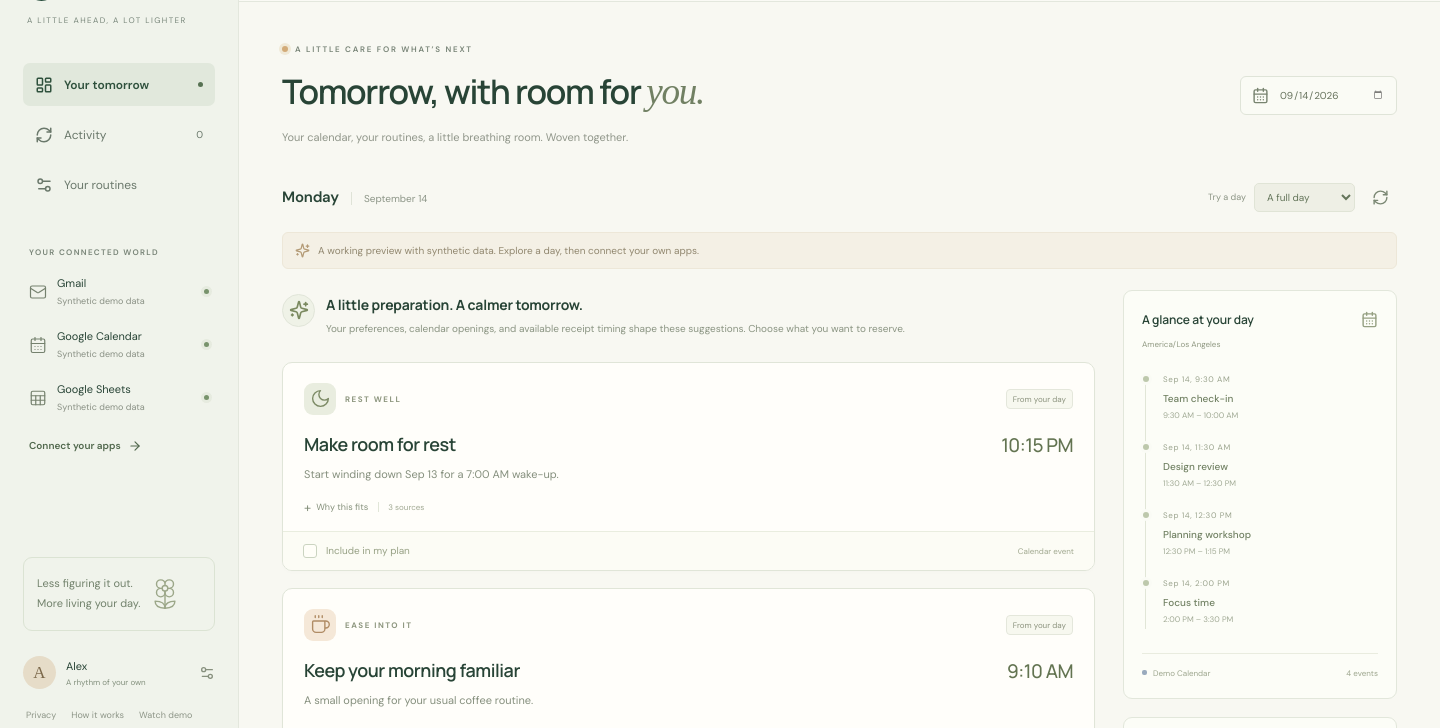
keeps generation and review read-only until exact action confirmation
Step 1. Click the checkbox → (310, 551), box 303,544 -> 317,558
(page scrolled)
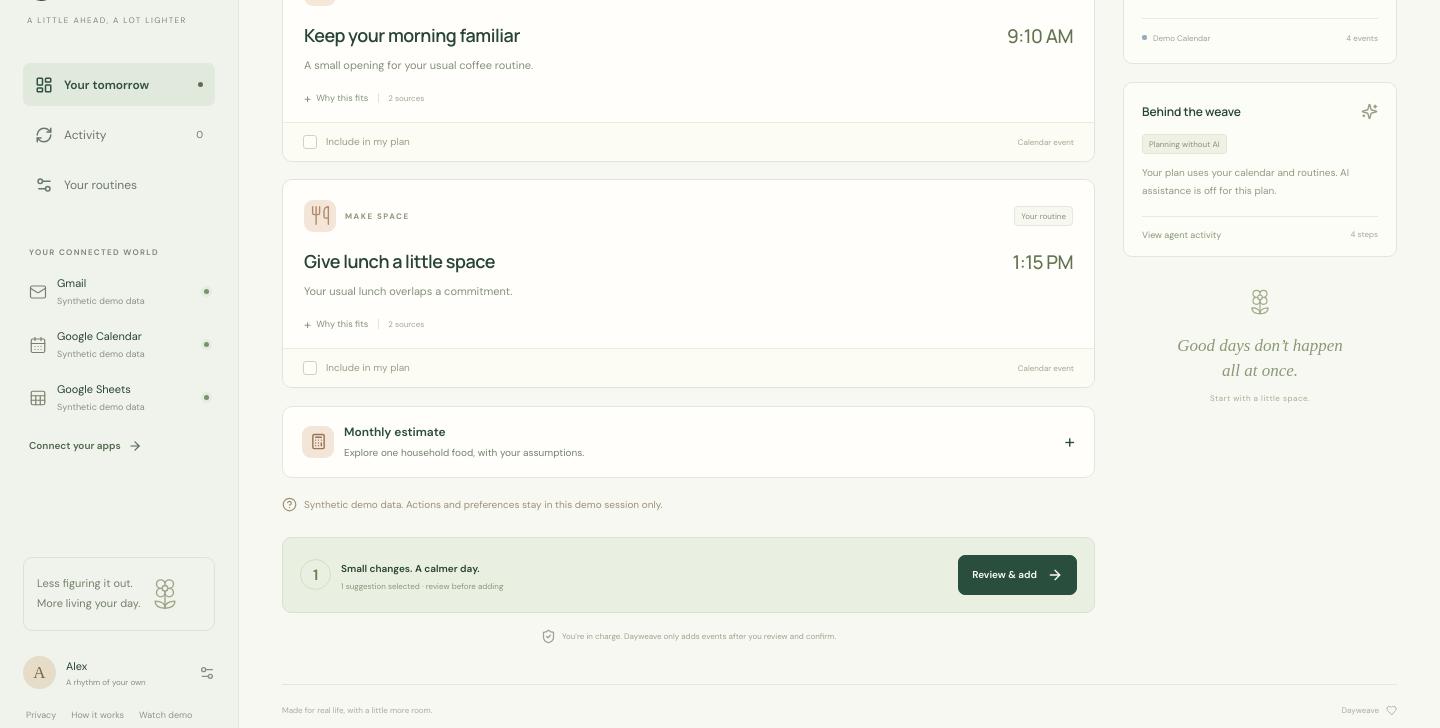
Step 2. Click the button "Review & add" → (1018, 575), box 958,555 -> 1077,595
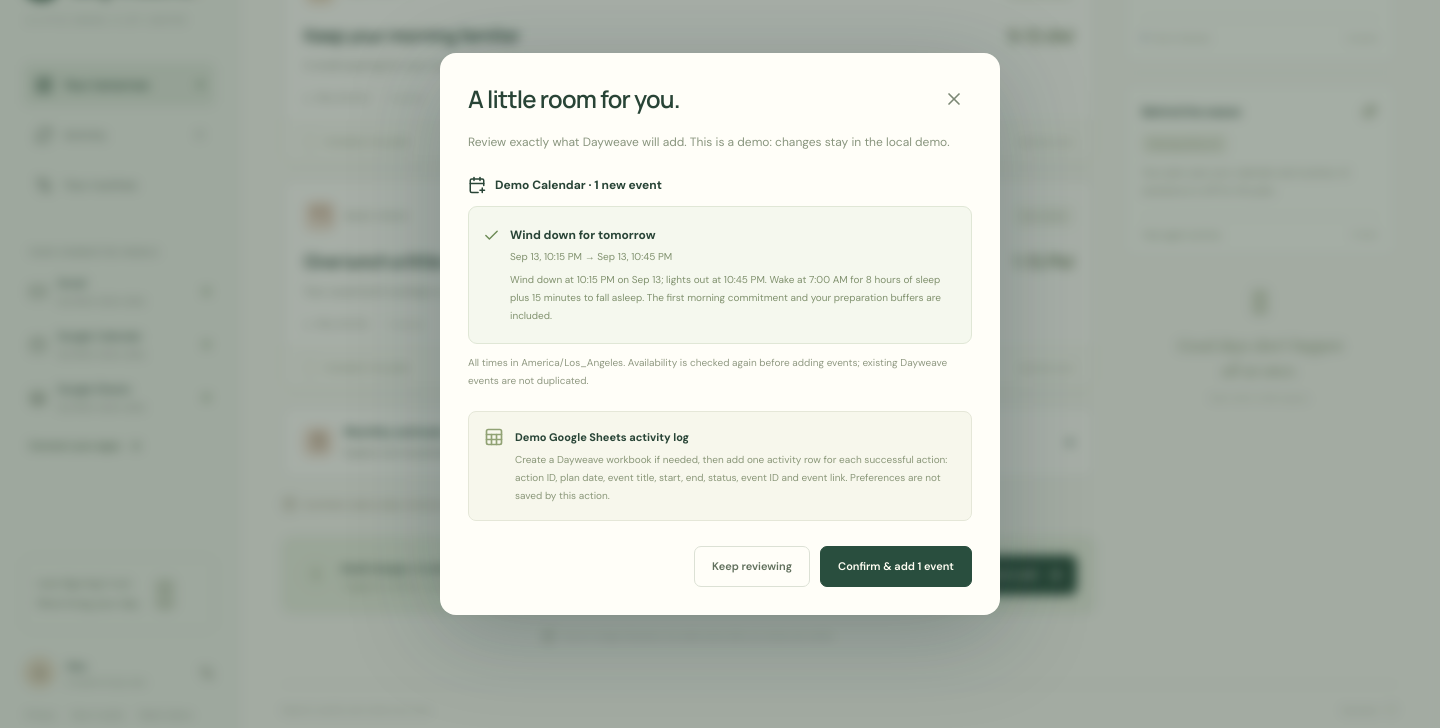
Step 3. Click the button "Confirm & add 1 event" → (896, 567), box 820,546 -> 972,588
(page scrolled)
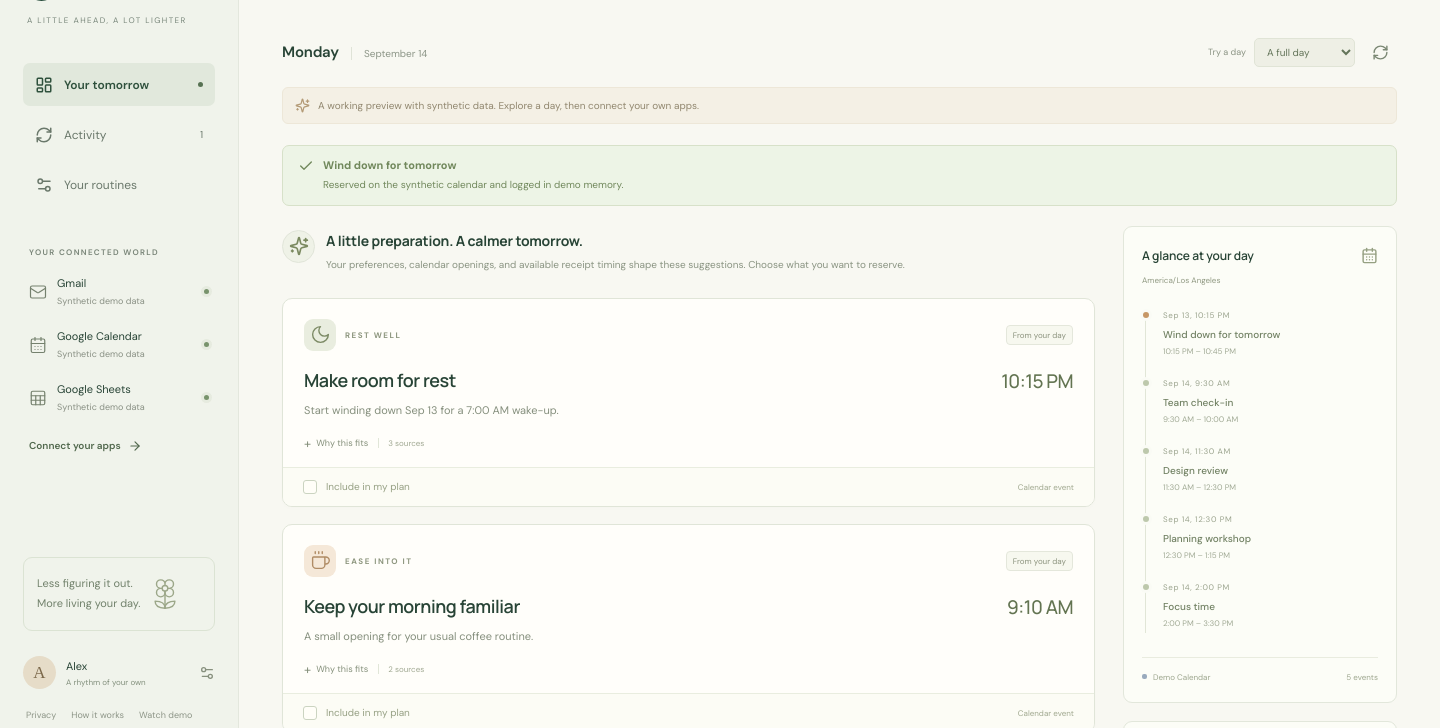
Result: the text "Wind down for tomorrow" below "Sep 13, 10:15 PM" is shown at 1163,328 -> 1280,341
Result: the dialog is gone
